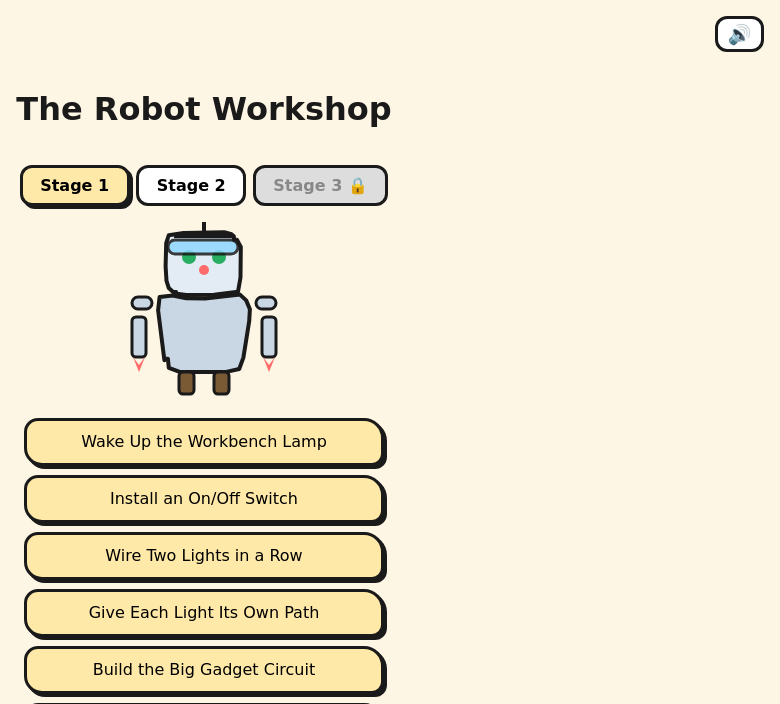
WorkshopMap › unlocks the Stage 2 tab, showing only its first level enabled, once stage 1 is fully complete
Click the tab "Stage 2" at (191, 186), box [136,165,246,206]
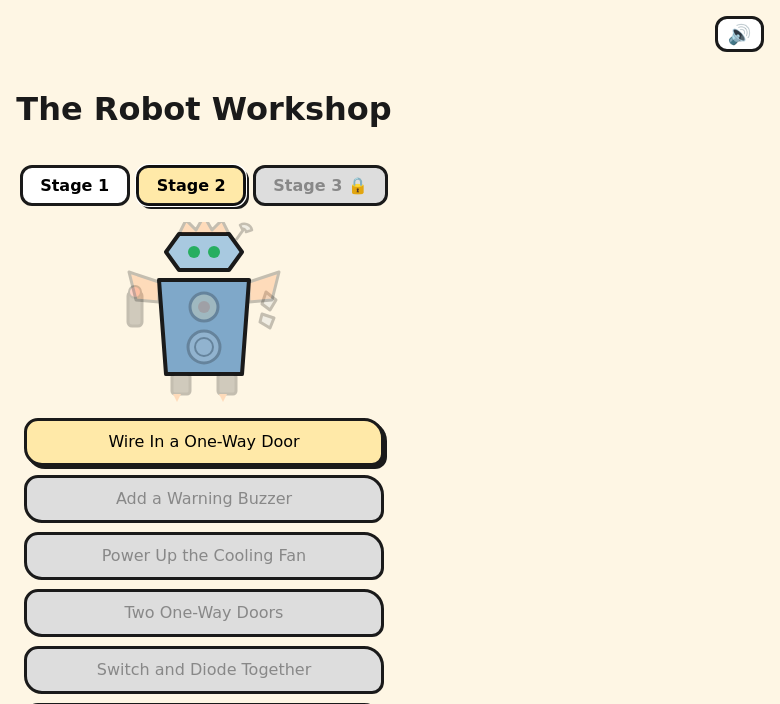
Expected: the button "Wire In a One-Way Door" is enabled, [24,418,384,466]
Expected: the picture with test id "robot-sidekick-mk2" is shown, [124,222,284,402]
Expected: the button "Add a Warning Buzzer" is disabled, [24,475,384,523]
